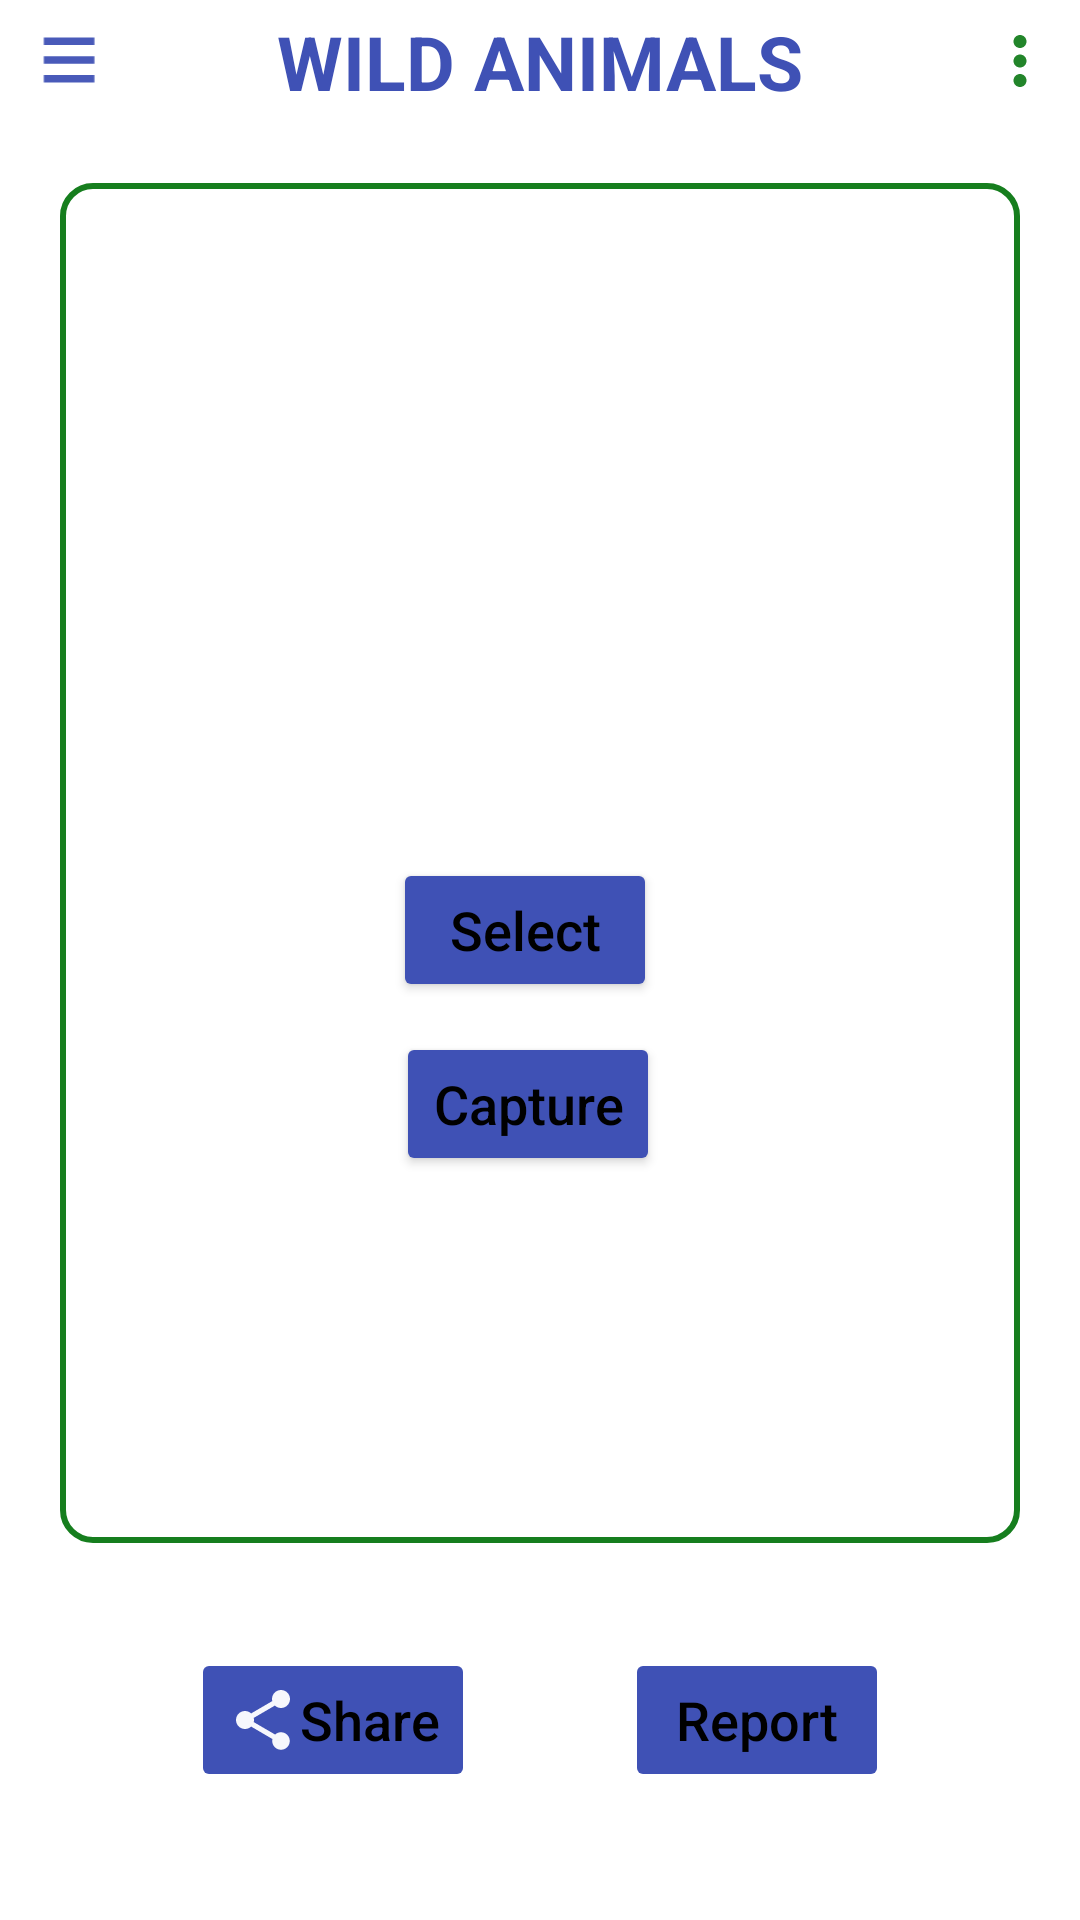

Icon bounding boxes for this 1080×1920 phone screenshot, format [left=x1, top=y1, right=x2, bottom=y2]:
menu: [left=43, top=37, right=95, bottom=83]
three dot: [left=1013, top=35, right=1027, bottom=87]
